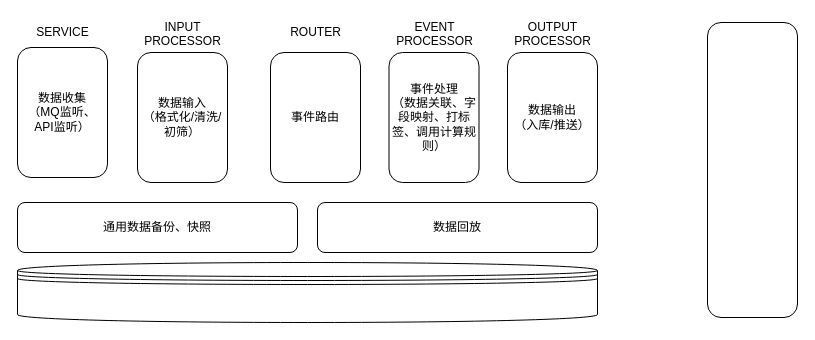
This 815x340 diagram has some shape labels left out. Here are the shapes that lost their labels. From the top down, the box of each, then its label:
(706, 22, 798, 318): 通用日志监控 （CAT）
(16, 262, 598, 322): ElasticSearch、Redis、AeroSpike
